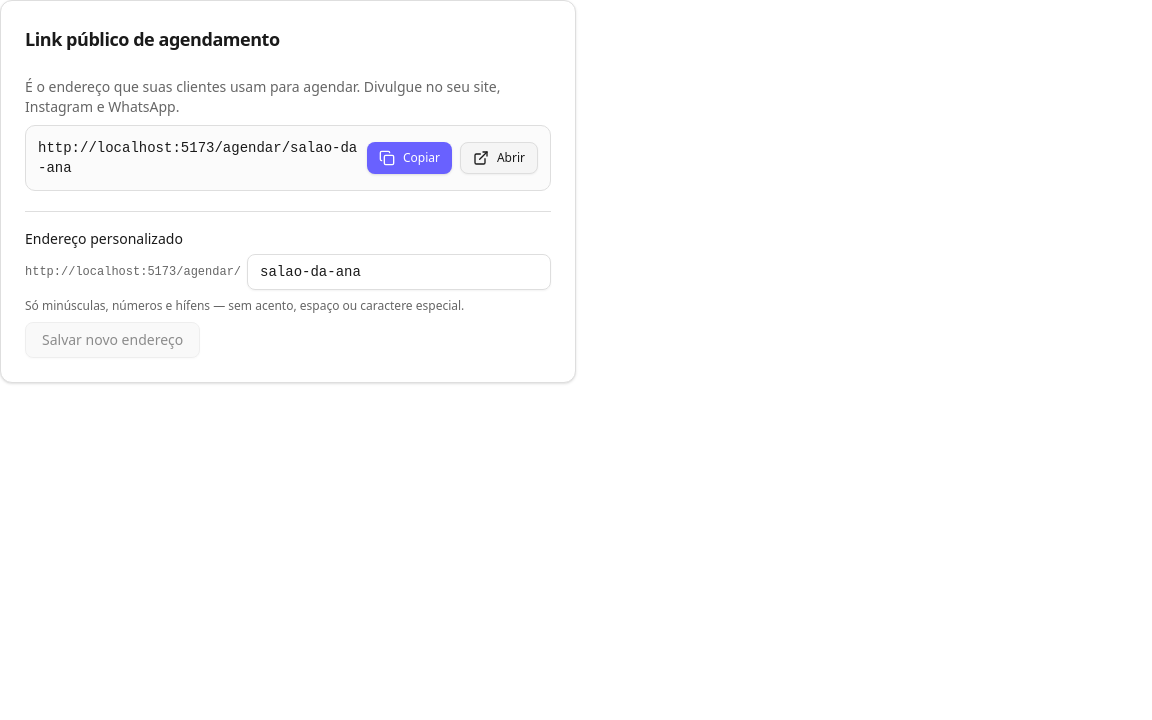
it: PublicLinkCard › trocar o slug exige confirmação COM o aviso de que não há redirect
Check: the text "http://localhost:5173/agendar/salao-da-ana" is shown, box [38,138,359,178]
Replace the text in the field labelled "Endereço personalizado" with "studio-ana": (399, 272) [247,254,551,290]
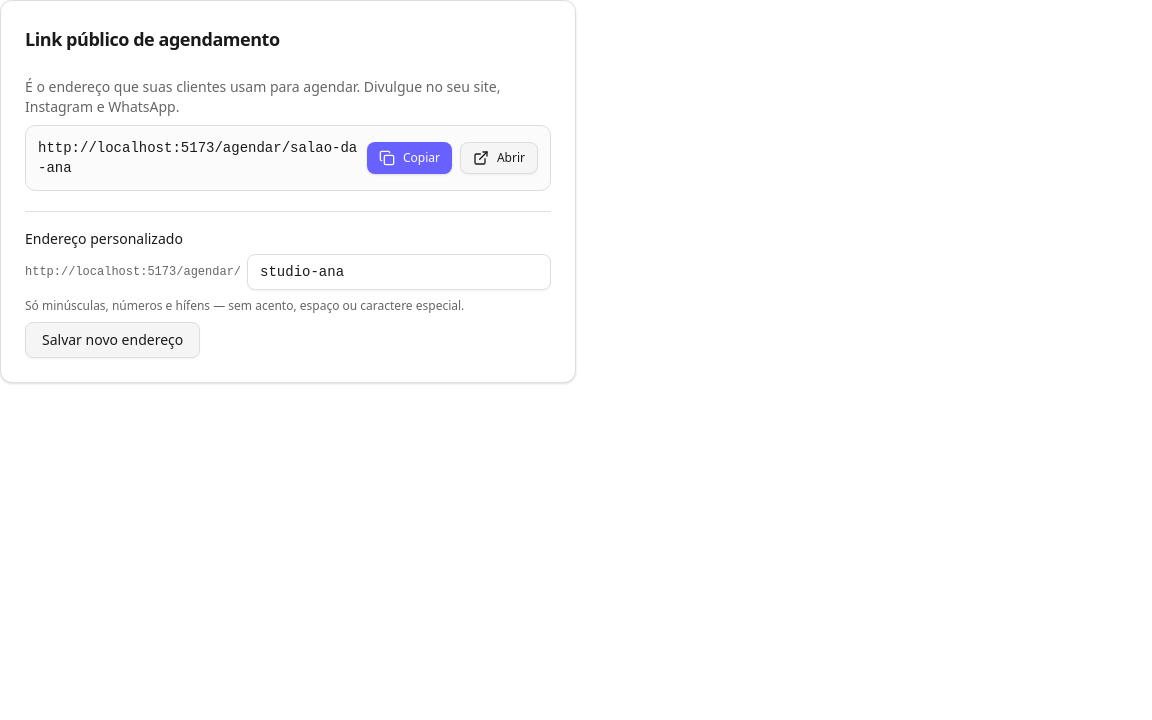
Click the button "Salvar novo endereço": (113, 340) [25,322,200,358]
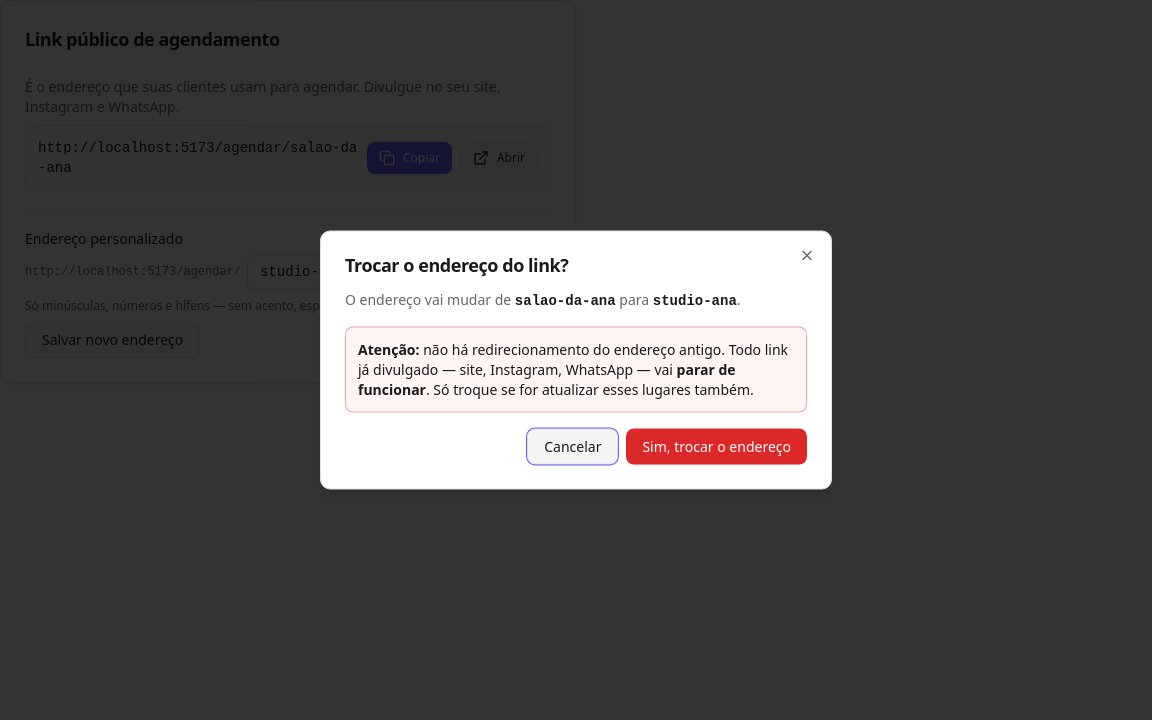
Check: the heading "Trocar o endereço do link?" is shown, box [345,252,568,276]
Check: the text "parar de funcionar" is shown, box [358,360,736,398]
Click the button "Sim, trocar o endereço": (717, 446) [626,428,807,464]
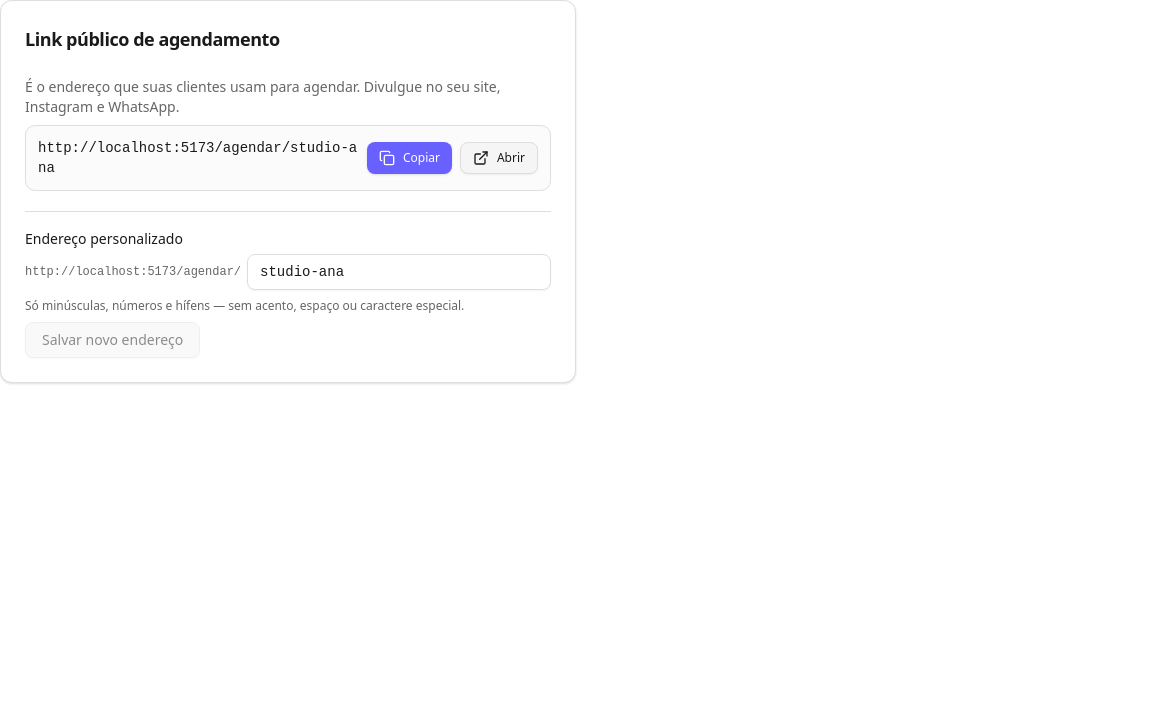
Check: the text "http://localhost:5173/agendar/studio-ana" is shown, box [38,138,359,178]
